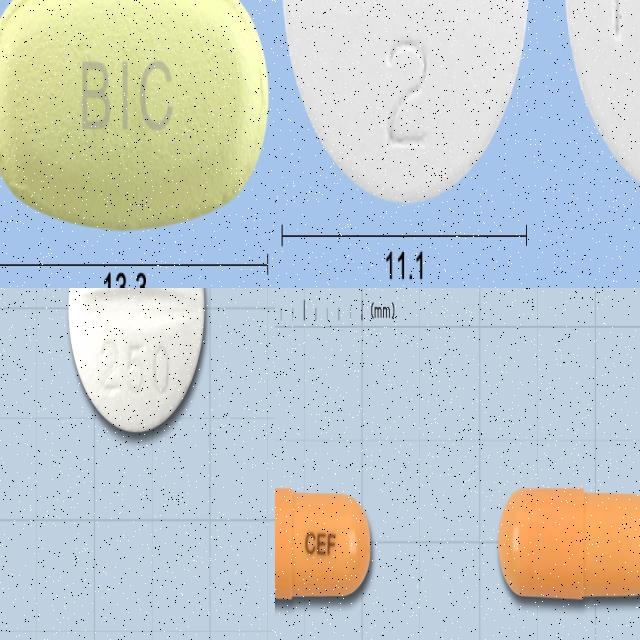Cefixime Cap- Samsung: (494, 479, 640, 605), (275, 481, 376, 610)
Citopcin: (277, 0, 535, 212)
Citro: (65, 288, 208, 436)
Clasta: (0, 0, 270, 235)
